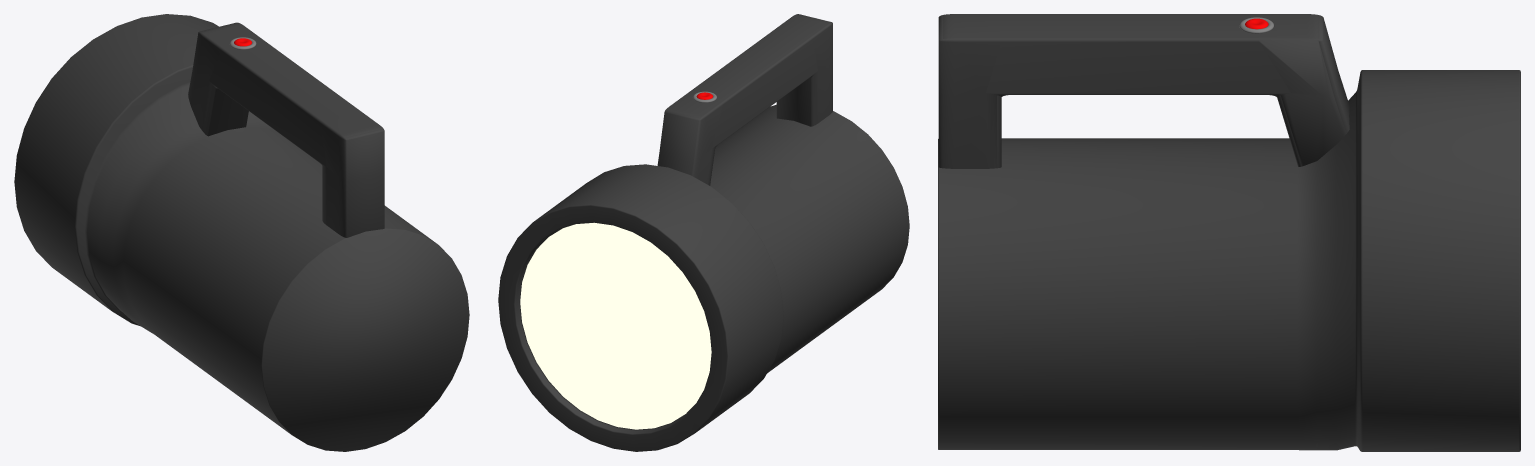
The model's file is flashlight.glb.
3 renders of one model, left to right at view 1: azimuth 30°, elevation 25°; view 2: azimuth 150°, elevation 25°; view 3: azimuth 270°, elevation 25°, orthographic. The views are drawn at different scales.
Visible parts, largest first — view 1: Sphere_Button_0; view 2: Sphere_Button_0; view 3: Sphere_Button_0.
Boxes of the visible parts, left/top/right/bottom form: Sphere_Button_0: left=14, top=14, right=469, bottom=451; Sphere_Button_0: left=498, top=14, right=909, bottom=451; Sphere_Button_0: left=938, top=14, right=1520, bottom=451.
Size of the model in its own units: 30.63 by 36.55 by 46.68.
